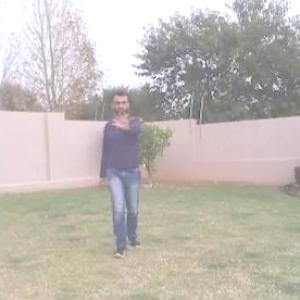follow_hand: (109, 108, 134, 130)
